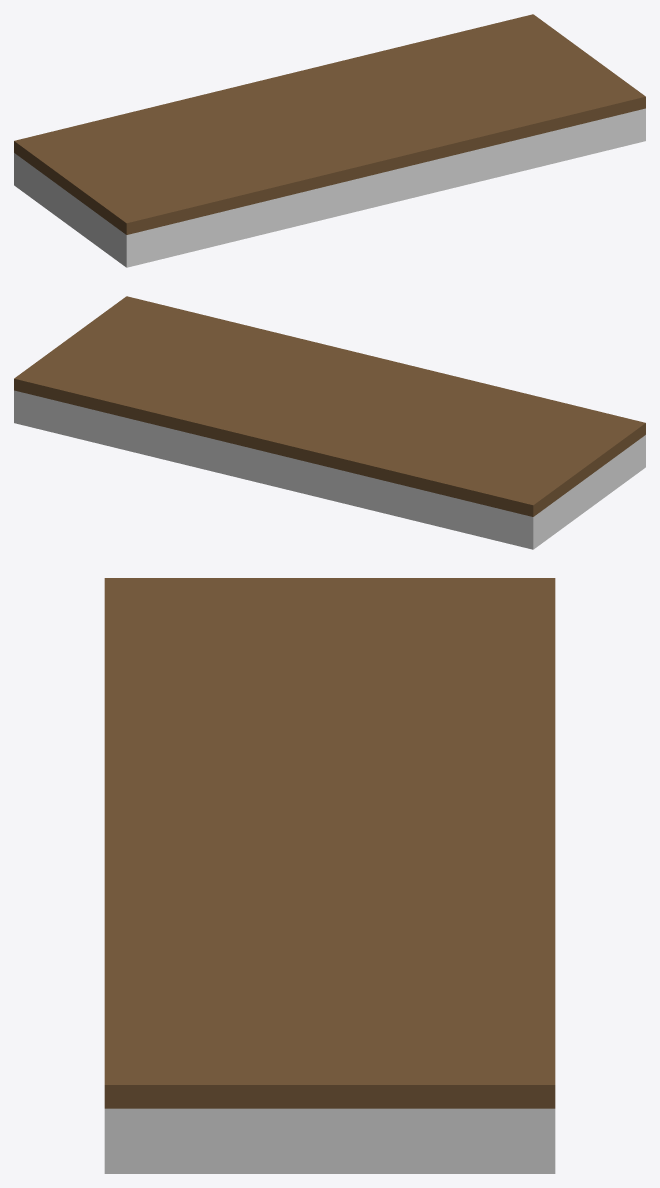
File: Terrace1_C3.fbx
3 renders of one model, top to bottom at view 1: azimuth 30°, elevation 25°; view 2: azimuth 150°, elevation 25°; view 3: azimuth 270°, elevation 25°, orthographic. The views are drawn at different scales.
Visible parts, largest first — view 1: Terrace1_C3; view 2: Terrace1_C3; view 3: Terrace1_C3.
Part boxes in pixels (bbox=[...]): Terrace1_C3: bbox=[14, 14, 645, 267]; Terrace1_C3: bbox=[14, 296, 645, 549]; Terrace1_C3: bbox=[104, 578, 555, 1173].
Bounding box in the file's own units: 1.22 × 0.1 × 0.4591.
